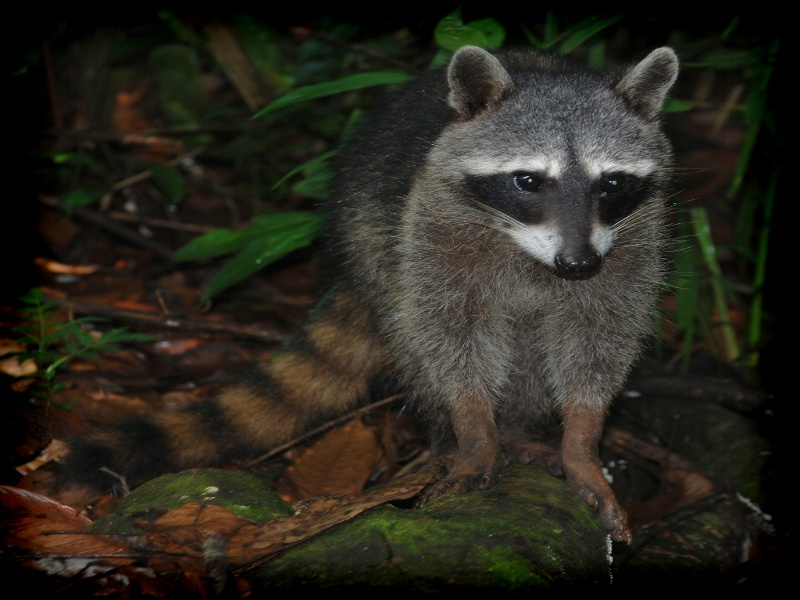raccoon: (40, 39, 688, 537)
